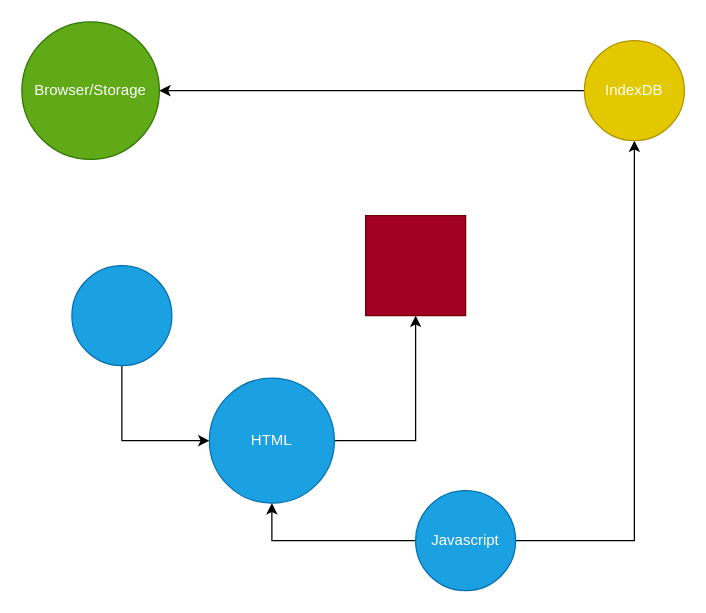
Some shapes in this 706 by 613 pixel diagram are drawn without their labels. Each missing label, with the centre of its shape:
CSS: the point at 121,315
Webpage: the point at 415,265
